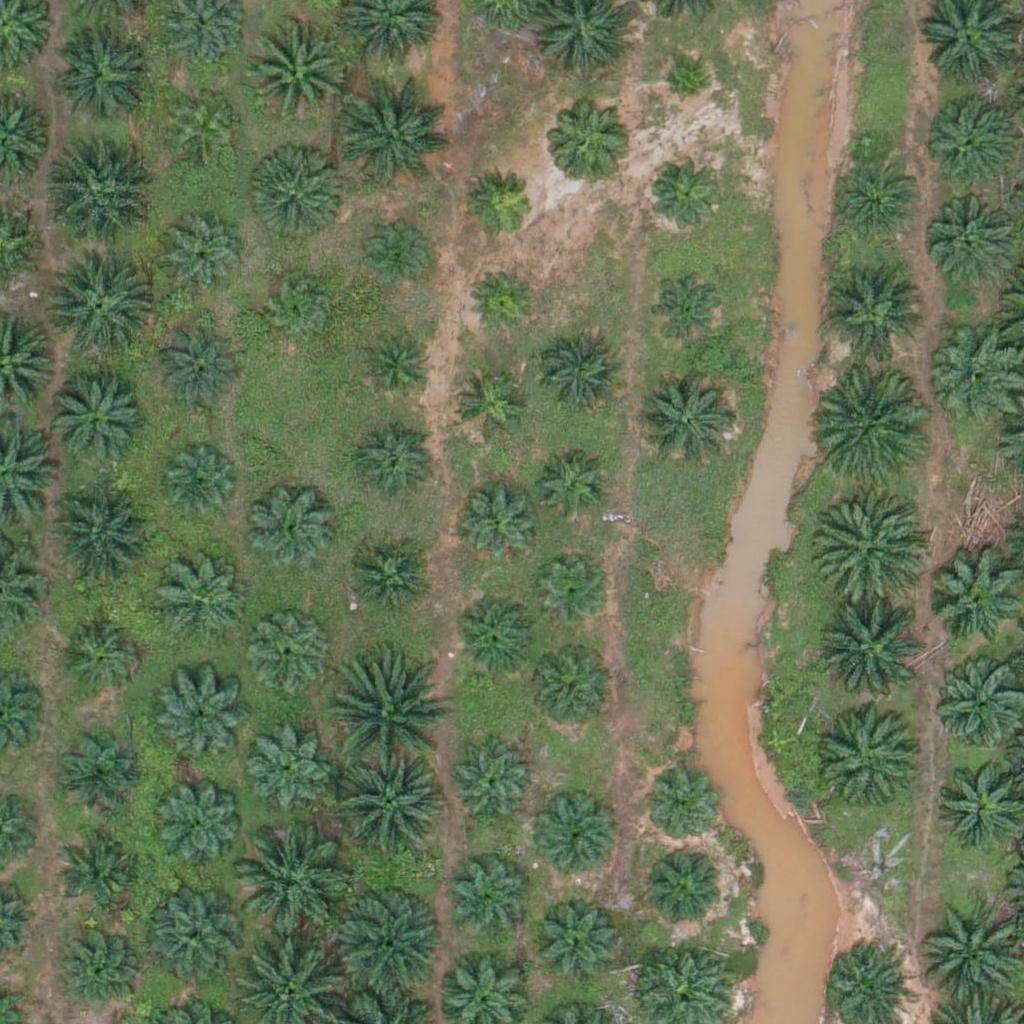Kelapa_Sawit: (815, 365, 928, 479), (326, 884, 439, 998), (811, 489, 924, 602), (333, 661, 446, 774), (38, 486, 151, 599), (818, 598, 930, 712), (331, 754, 443, 867), (234, 827, 346, 940), (39, 137, 151, 250), (40, 251, 152, 364), (341, 77, 453, 190), (821, 707, 921, 808), (636, 371, 736, 472), (143, 894, 243, 995), (47, 373, 147, 474), (54, 23, 154, 124), (246, 23, 346, 124), (921, 82, 1021, 183), (823, 262, 923, 363), (247, 142, 347, 242), (453, 477, 541, 566), (645, 265, 733, 354), (351, 421, 439, 509), (339, 537, 427, 625), (523, 644, 611, 732), (446, 854, 534, 942), (155, 680, 243, 768), (155, 781, 243, 869), (56, 612, 144, 700), (245, 613, 333, 701), (154, 326, 242, 414), (161, 208, 249, 296), (545, 91, 633, 179), (539, 330, 627, 418), (452, 592, 539, 680), (445, 740, 532, 828), (534, 797, 621, 885), (641, 843, 728, 931), (530, 892, 617, 980), (52, 919, 139, 1007), (60, 822, 147, 910), (52, 725, 139, 813), (247, 484, 334, 572), (244, 726, 331, 814), (158, 557, 245, 645), (643, 147, 730, 235), (830, 150, 917, 238), (162, 447, 237, 523), (360, 218, 435, 294), (535, 557, 610, 633), (644, 770, 719, 846), (358, 330, 433, 406), (465, 168, 540, 243), (166, 89, 241, 164), (450, 368, 525, 443), (264, 273, 339, 348), (538, 452, 613, 527), (465, 264, 540, 339), (662, 62, 712, 112)
